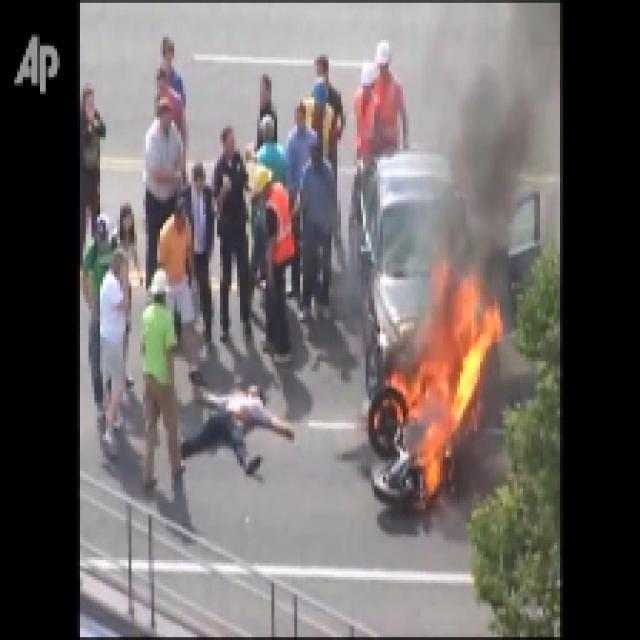Fire: (380, 257, 503, 503)
Smoke: (414, 2, 566, 258)
